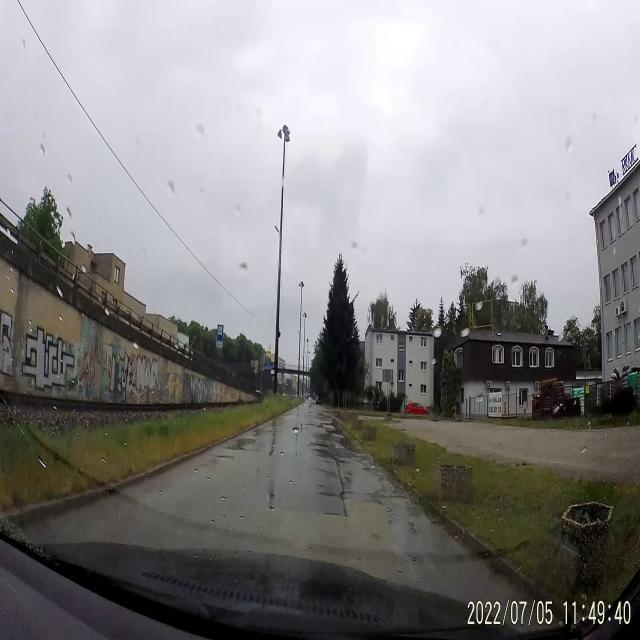Pothole: (314, 481, 356, 518), (214, 452, 237, 464)
